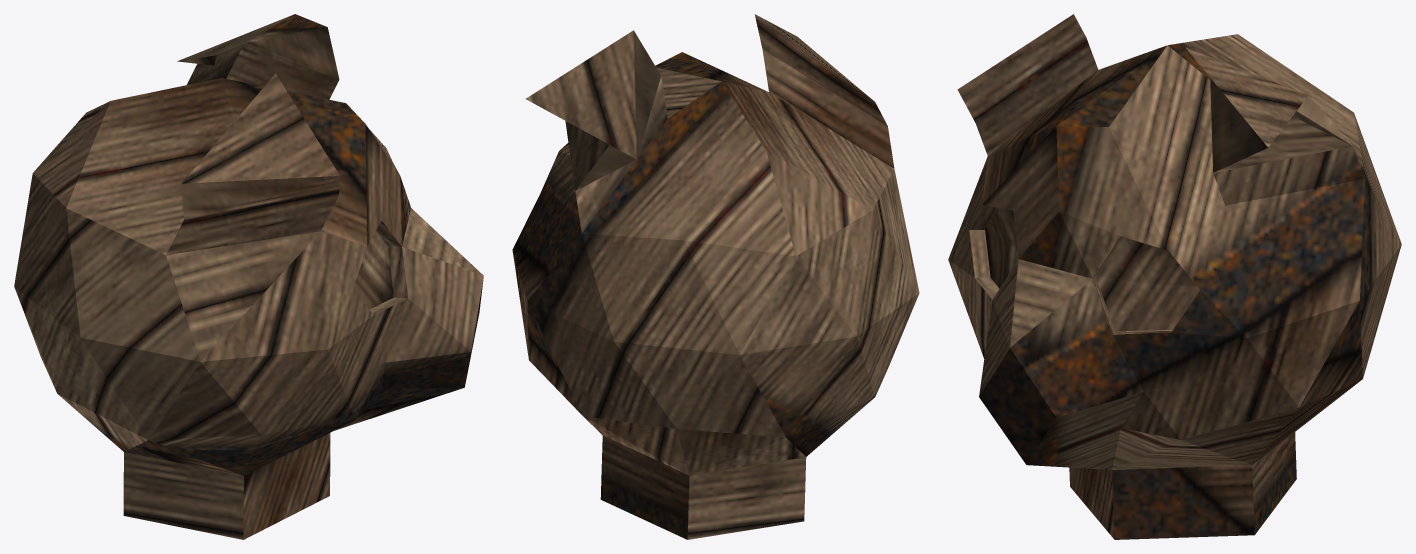
File: head.dae
3 renders of one model, left to right at view 1: azimuth 30°, elevation 25°; view 2: azimuth 150°, elevation 25°; view 3: azimuth 270°, elevation 25°, orthographic. The views are drawn at different scales.
Visible parts, largest first — view 1: Icosphere; view 2: Icosphere; view 3: Icosphere.
Boxes of the visible parts, <box> form: Icosphere: <box>14,14,483,539</box>; Icosphere: <box>512,14,919,539</box>; Icosphere: <box>948,14,1401,539</box>.
Size of the model in its own units: 2.07 by 2 by 2.54.
1 material, 1 textured.
